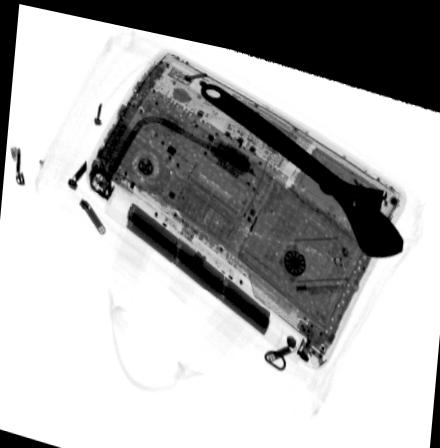Wrench: (199, 71, 404, 243)
